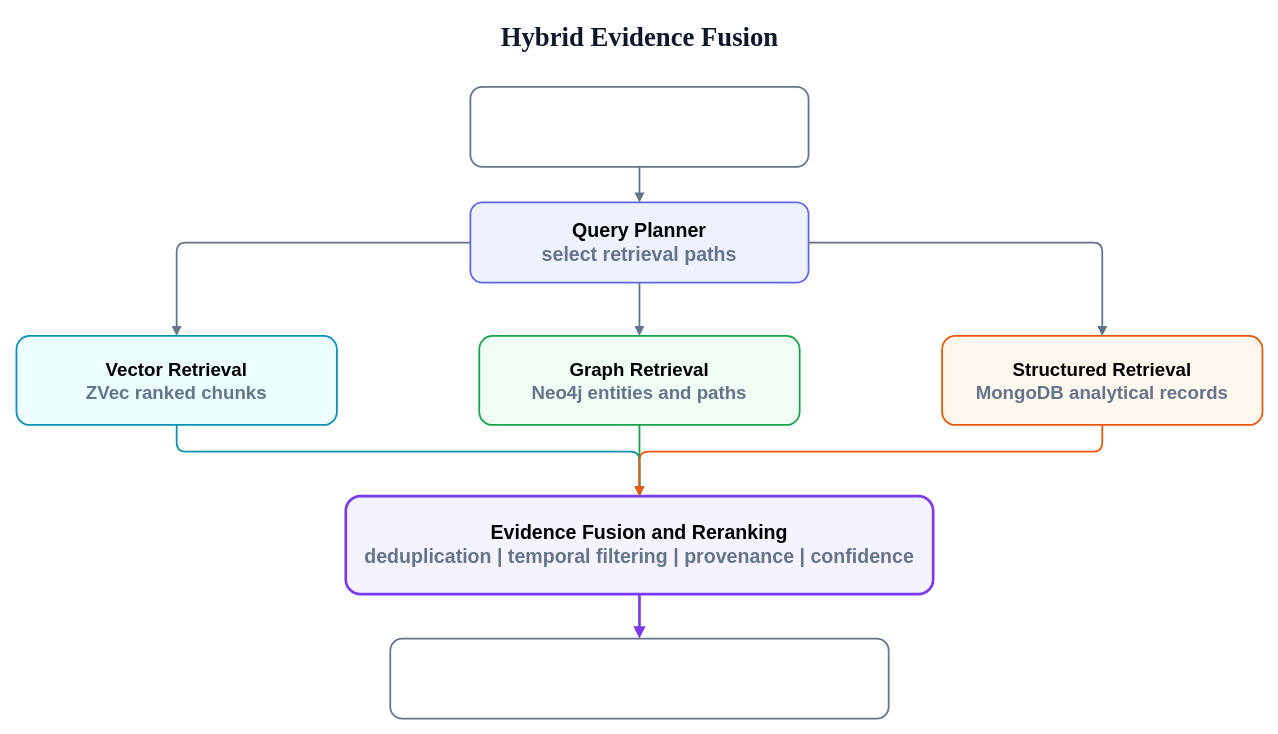
Some shapes in this 1278 by 734 pixel diagram are drawn without their labels. The shapes that lost their labels are listed below. From the top down, each one's box as (x1, y1, x2, y2) in pixels, then its label:
(469, 85, 809, 167): User Question entities, period, and intent
(389, 637, 889, 719): Grounded Evidence Package passages + graph facts + records + citations
